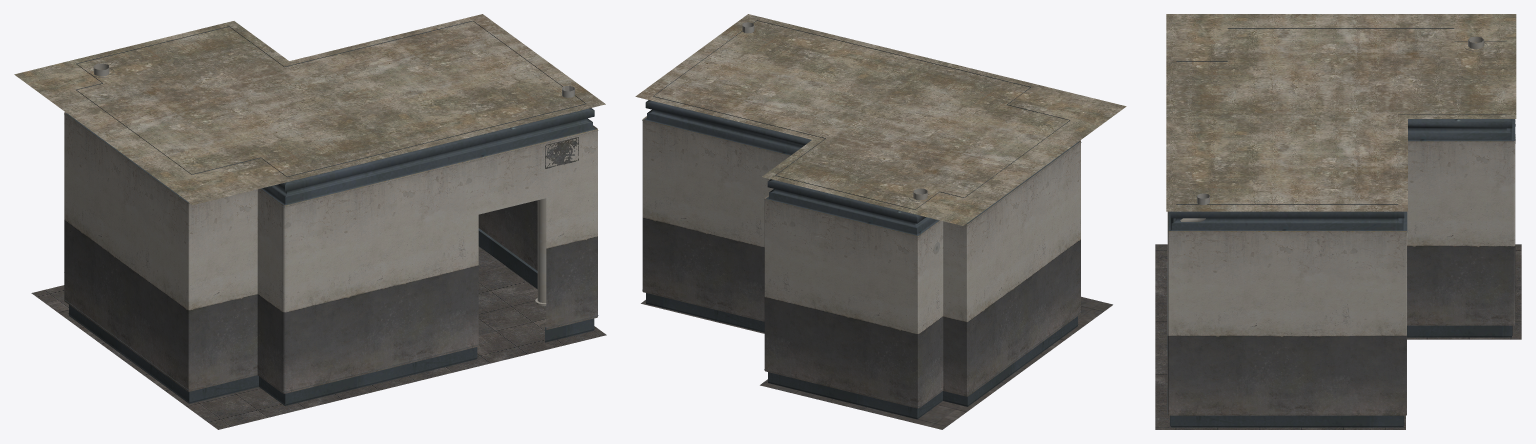
3 renders of one model, left to right at view 1: azimuth 30°, elevation 25°; view 2: azimuth 150°, elevation 25°; view 3: azimuth 270°, elevation 25°, orthographic. The views are drawn at different scales.
Parts seen in each view (by area): view 1: LOD_1_Group_0_Sub_3__st2_police2fLeftWall04, LOD_1_Group_0_Sub_1__st2_police2fLeftCeiling03, LOD_1_Group_0_Sub_4__st2_police2fLeftPillar03, LOD_1_Group_0_Sub_2__st2_police2fLeftFloor03, LOD_1_Group_0_Sub_6__st2_VinylPipeIronDuct_A, LOD_1_Group_0_Sub_5__st2_police2fLeftDoor01; view 2: LOD_1_Group_0_Sub_3__st2_police2fLeftWall04, LOD_1_Group_0_Sub_1__st2_police2fLeftCeiling03, LOD_1_Group_0_Sub_4__st2_police2fLeftPillar03, LOD_1_Group_0_Sub_2__st2_police2fLeftFloor03; view 3: LOD_1_Group_0_Sub_3__st2_police2fLeftWall04, LOD_1_Group_0_Sub_1__st2_police2fLeftCeiling03, LOD_1_Group_0_Sub_4__st2_police2fLeftPillar03, LOD_1_Group_0_Sub_2__st2_police2fLeftFloor03, LOD_1_Group_0_Sub_6__st2_VinylPipeIronDuct_A.
Boxes of the visible parts, <box> form: LOD_1_Group_0_Sub_3__st2_police2fLeftWall04: <box>64,112,597,393</box>; LOD_1_Group_0_Sub_1__st2_police2fLeftCeiling03: <box>14,14,605,204</box>; LOD_1_Group_0_Sub_4__st2_police2fLeftPillar03: <box>64,21,598,405</box>; LOD_1_Group_0_Sub_2__st2_police2fLeftFloor03: <box>31,246,606,429</box>; LOD_1_Group_0_Sub_6__st2_VinylPipeIronDuct_A: <box>90,63,574,305</box>; LOD_1_Group_0_Sub_5__st2_police2fLeftDoor01: <box>545,137,578,168</box>; LOD_1_Group_0_Sub_3__st2_police2fLeftWall04: <box>642,116,1081,408</box>; LOD_1_Group_0_Sub_1__st2_police2fLeftCeiling03: <box>635,14,1126,225</box>; LOD_1_Group_0_Sub_4__st2_police2fLeftPillar03: <box>642,20,1081,419</box>; LOD_1_Group_0_Sub_2__st2_police2fLeftFloor03: <box>641,296,1112,429</box>; LOD_1_Group_0_Sub_3__st2_police2fLeftWall04: <box>1167,141,1515,415</box>; LOD_1_Group_0_Sub_1__st2_police2fLeftCeiling03: <box>1166,14,1516,211</box>; LOD_1_Group_0_Sub_4__st2_police2fLeftPillar03: <box>1167,28,1515,427</box>; LOD_1_Group_0_Sub_2__st2_police2fLeftFloor03: <box>1155,244,1521,429</box>; LOD_1_Group_0_Sub_6__st2_VinylPipeIronDuct_A: <box>1180,36,1487,221</box>.
Size of the model in its own units: 6.52 by 3.55 by 5.11.
